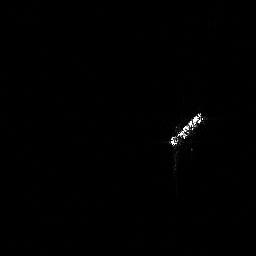ship: (164, 108, 208, 151)
